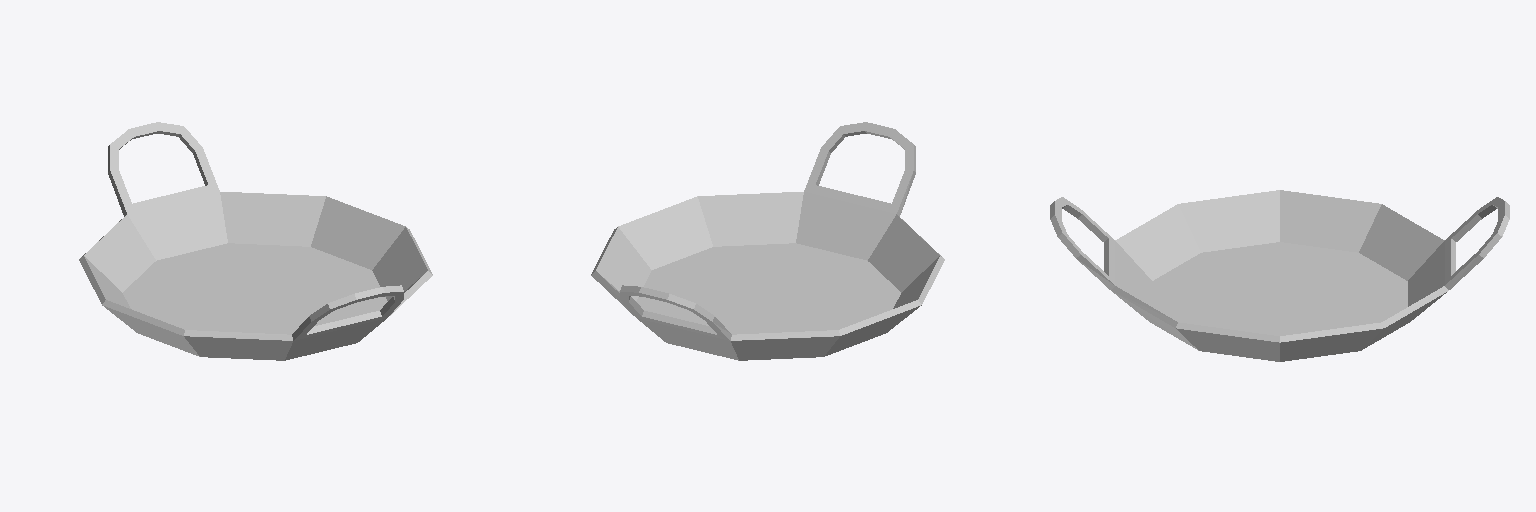
The model's file is pan_paella_pan.obj.
The picture shows the model from 3 angles: view 1: azimuth 30°, elevation 25°; view 2: azimuth 150°, elevation 25°; view 3: azimuth 270°, elevation 25°; orthographic projection.
Parts seen in each view (by area): view 1: pan_paella_pan_Cylinder.072; view 2: pan_paella_pan_Cylinder.072; view 3: pan_paella_pan_Cylinder.072.
Boxes of the visible parts, <box> form: pan_paella_pan_Cylinder.072: <box>79,122,432,360</box>; pan_paella_pan_Cylinder.072: <box>591,122,944,360</box>; pan_paella_pan_Cylinder.072: <box>1050,190,1509,361</box>.
Size of the model in its own units: 9.73 by 2.91 by 12.57.